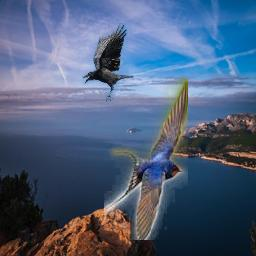Crow: (82, 24, 134, 103)
Swallow: (104, 78, 188, 240)
